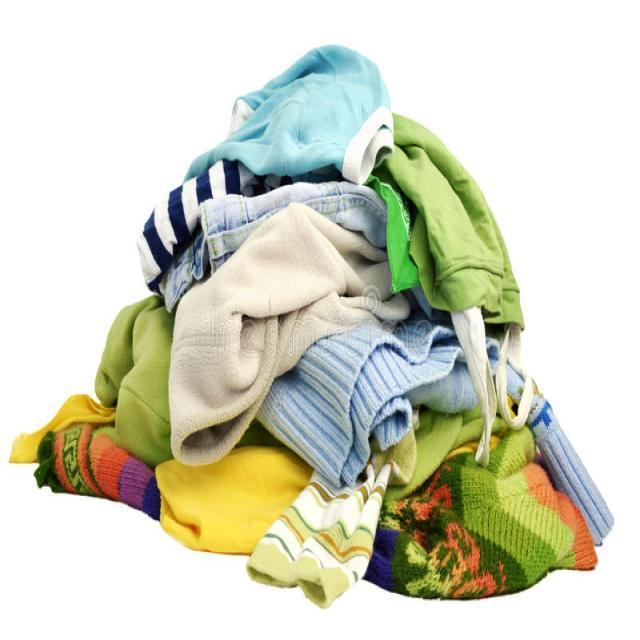clothes: (108, 54, 615, 596)
